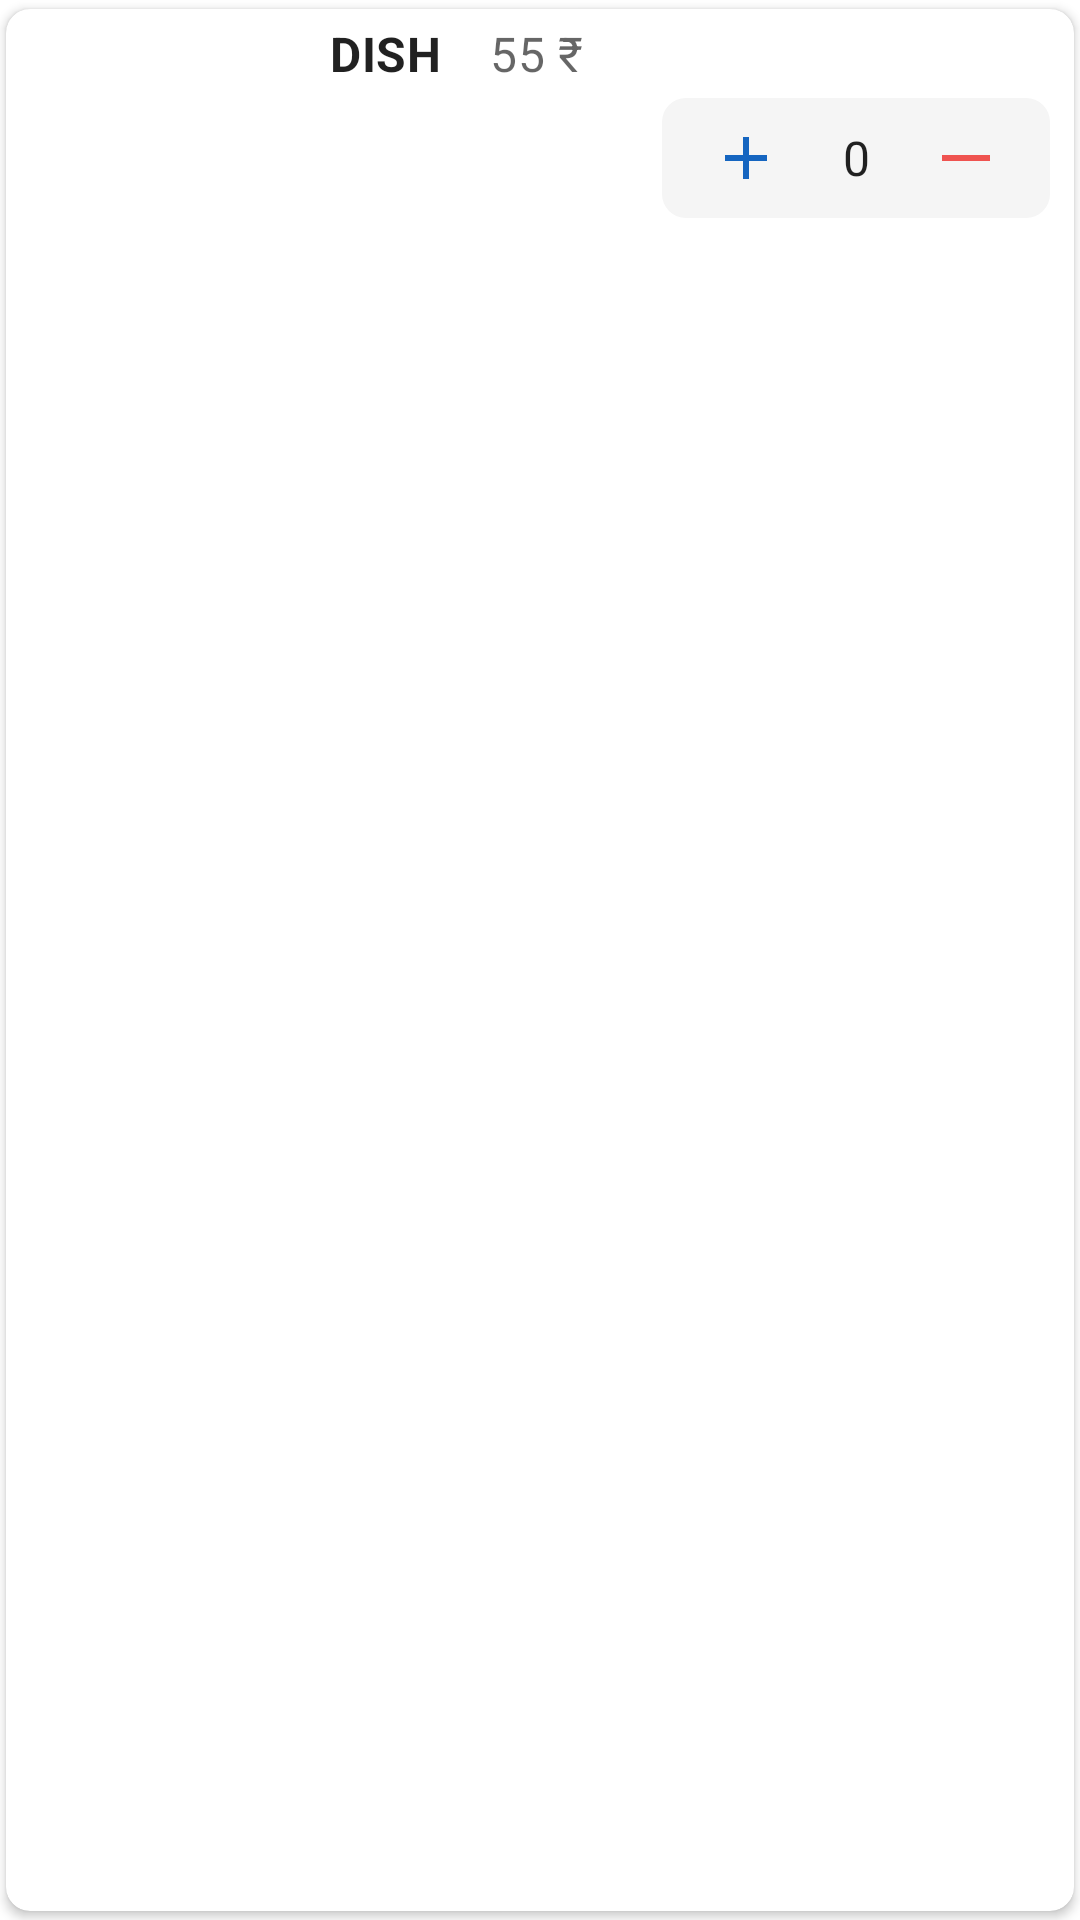

Named icons in this screenshot (1080px×1920px) and their centers, point (x, y):
add: point (746, 158)
